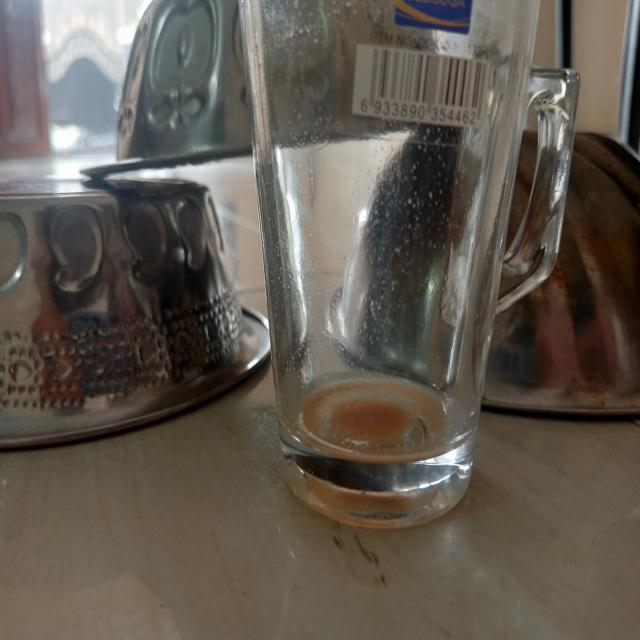glass-VX4N: (236, 0, 582, 528)
